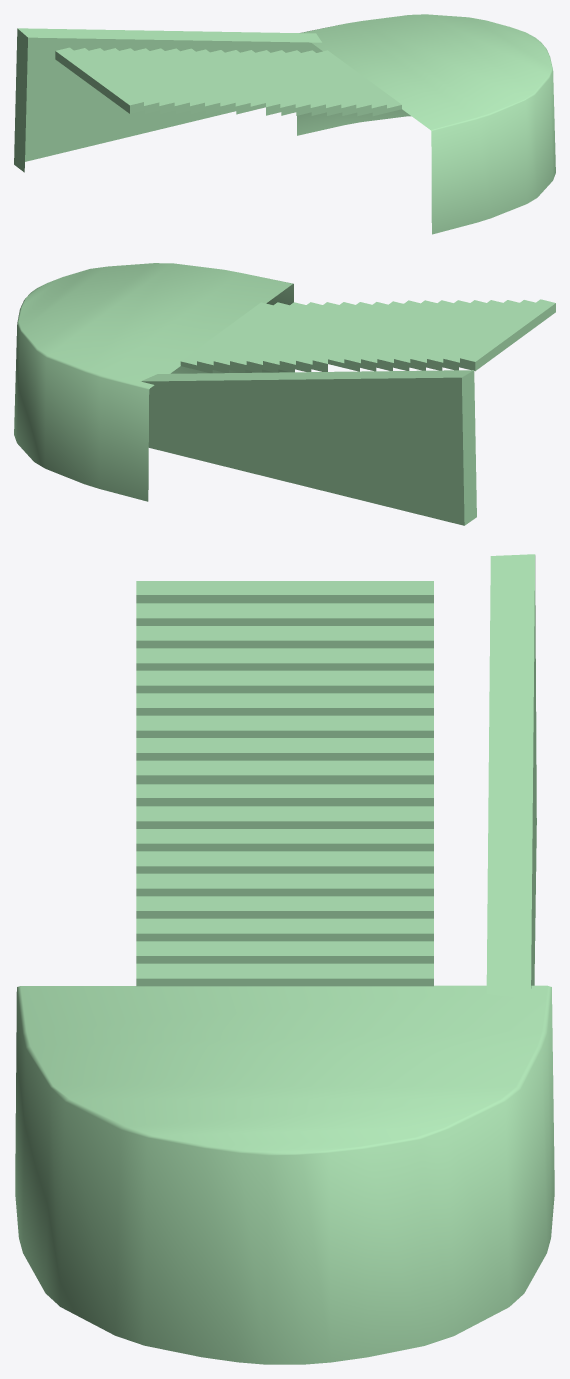
Rendered from Start_Low.fbx.
3 views of the same model, one above another, from view 1: azimuth 30°, elevation 25°; view 2: azimuth 150°, elevation 25°; view 3: azimuth 270°, elevation 25° (orthographic). The views are drawn at different scales.
Parts seen in each view (by area): view 1: Platform_Start, Stairs_Start.002, Under_Stairs_R; view 2: Under_Stairs_R, Platform_Start, Stairs_Start.002; view 3: Platform_Start, Stairs_Start.002, Under_Stairs_R.
Boxes of the visible parts, x1,y1,x2,y2 form: Platform_Start: (297, 14, 555, 234); Stairs_Start.002: (55, 47, 401, 116); Under_Stairs_R: (14, 28, 322, 172); Under_Stairs_R: (141, 370, 476, 525); Platform_Start: (14, 263, 293, 501); Stairs_Start.002: (180, 299, 555, 373); Platform_Start: (15, 985, 554, 1364); Stairs_Start.002: (136, 581, 433, 986); Under_Stairs_R: (486, 554, 536, 998).
Size of the model in its own units: 1713 by 638 by 863.
